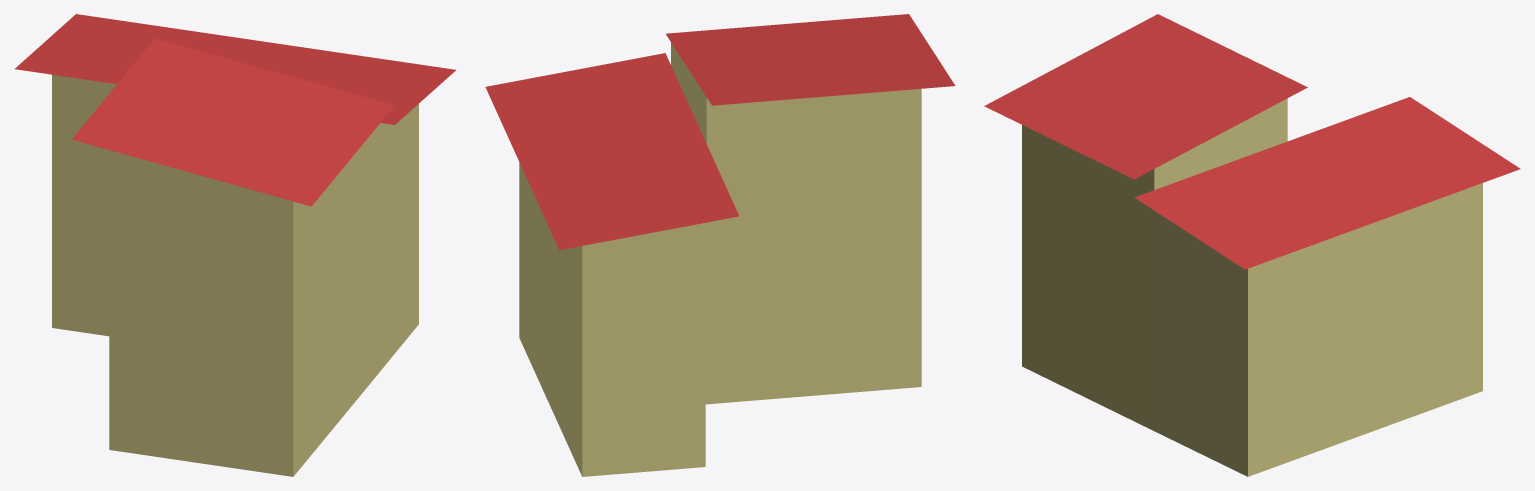
The picture shows the model from 3 angles, left to right: view 1: azimuth 30°, elevation 25°; view 2: azimuth 150°, elevation 25°; view 3: azimuth 270°, elevation 25°; orthographic projection. The views are drawn at different scales.
Size of the model in its own units: 8.43 by 10.01 by 5.92.
